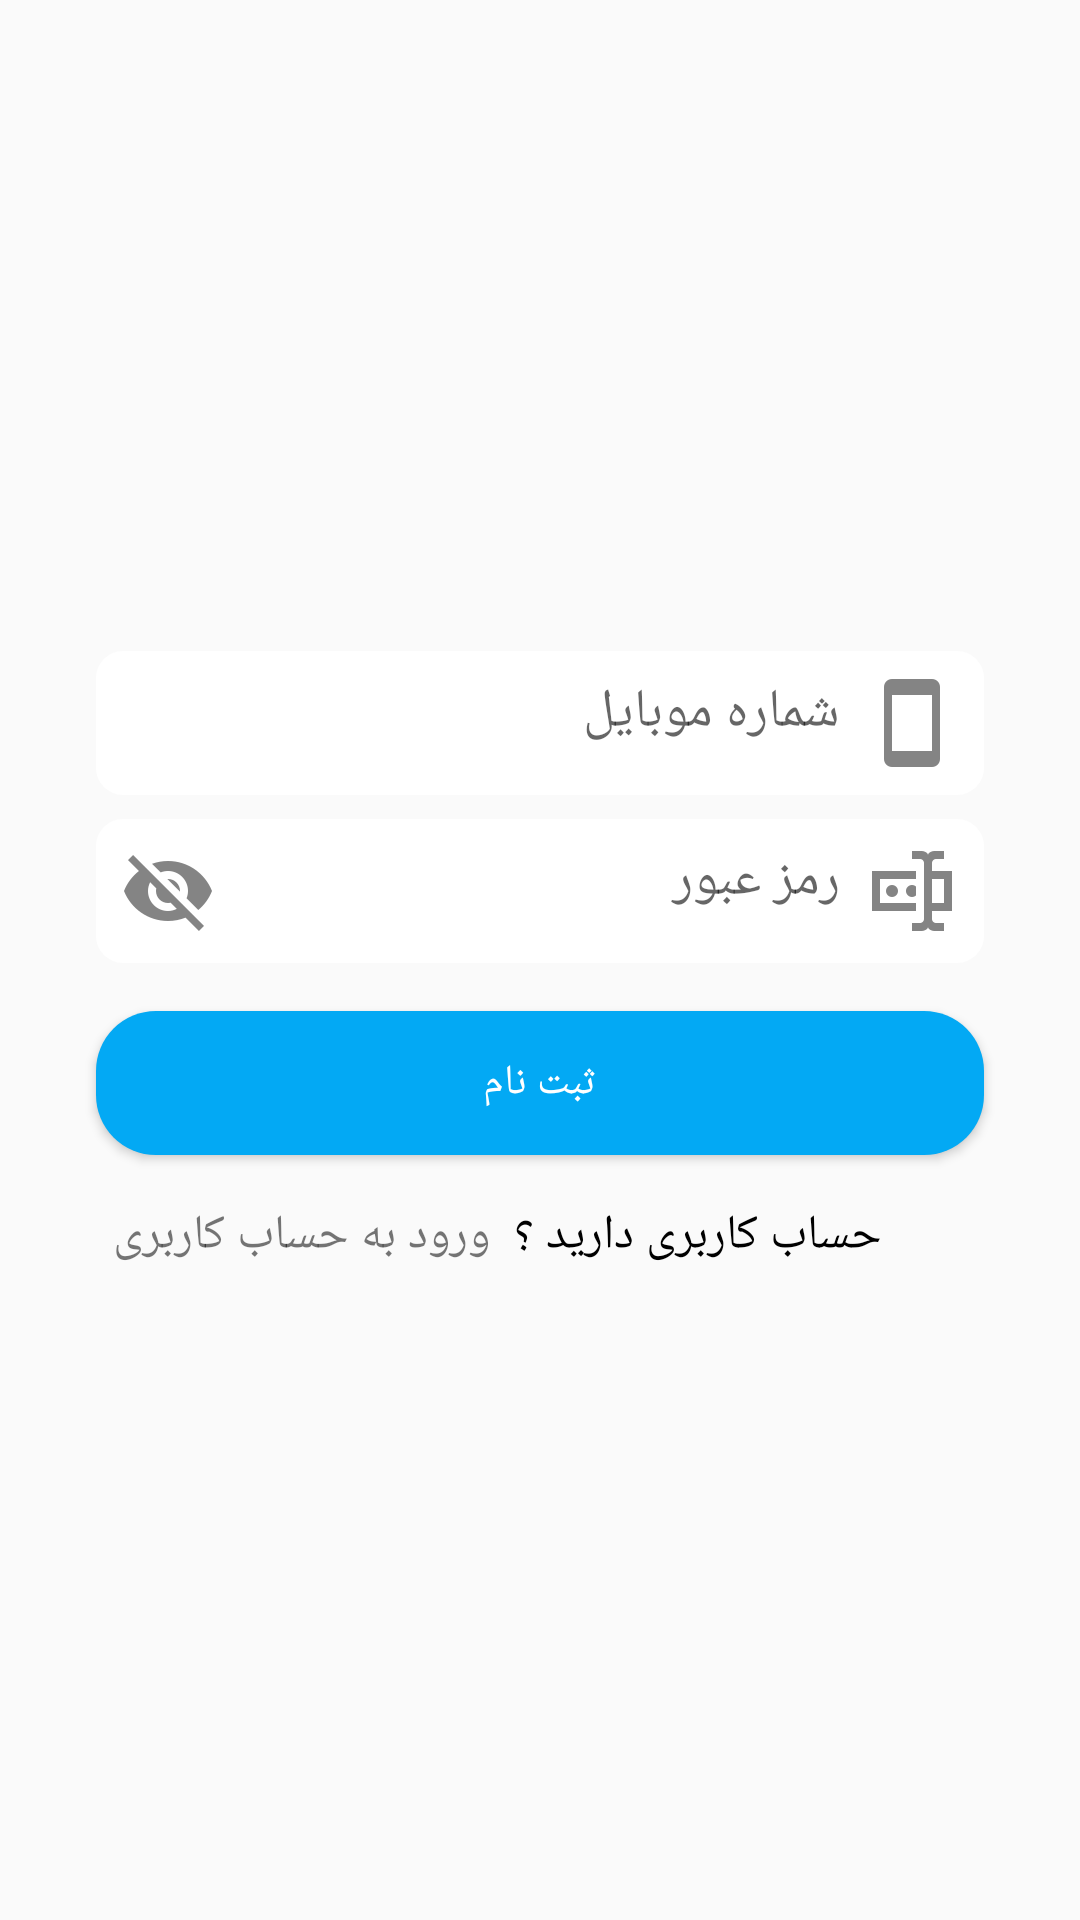

Point at icon controls on the screen. Image size 1080w x 1920h, points as point (x, y).
eye off: point (168, 893)
